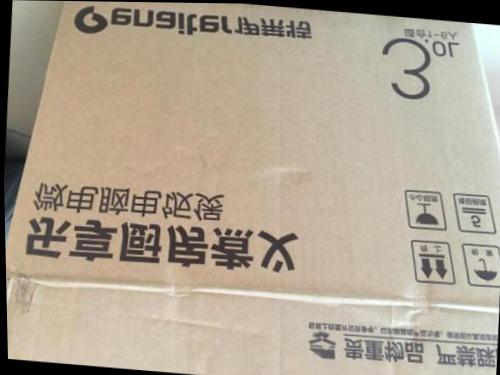cardboard: (4, 1, 499, 374)
